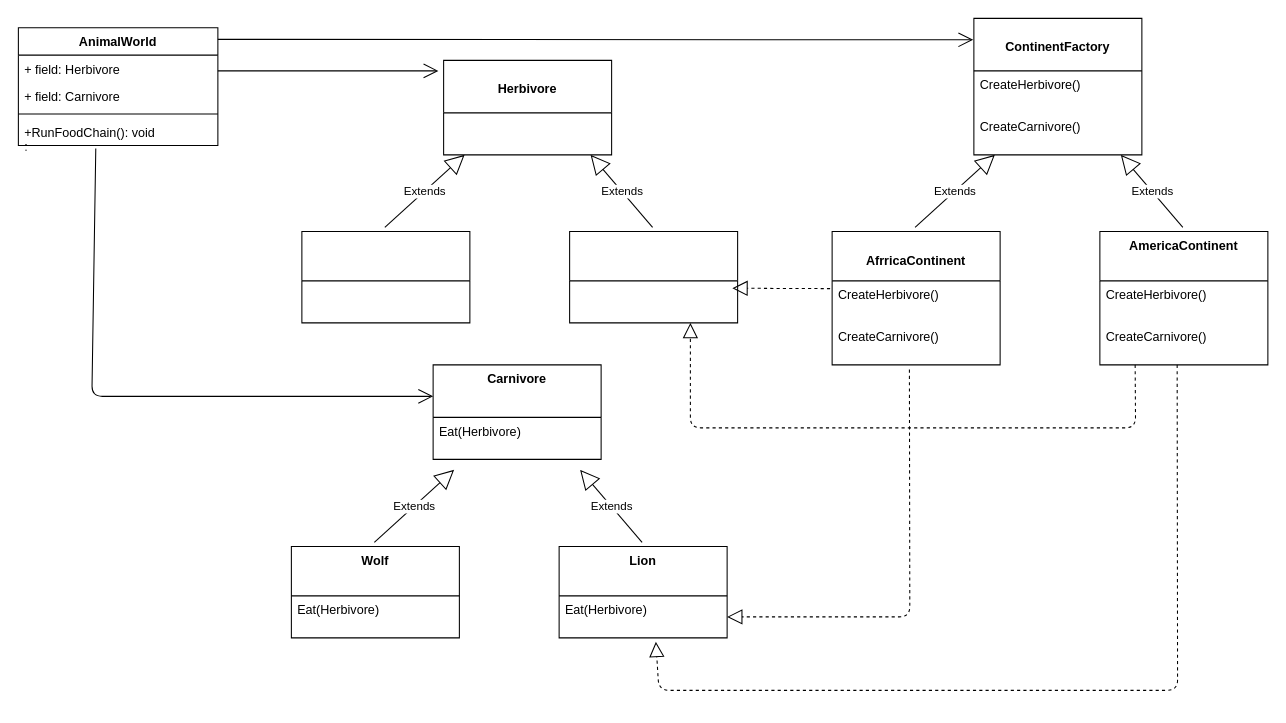
Image size: 1286x723. Some labels were removed from this diagram. The shapes that lost their labels are listed below. From the top down, each one's centre as x and y in pixels, then its label:
At point (385, 276): "WildeBeest".
At point (653, 276): "Bison".
